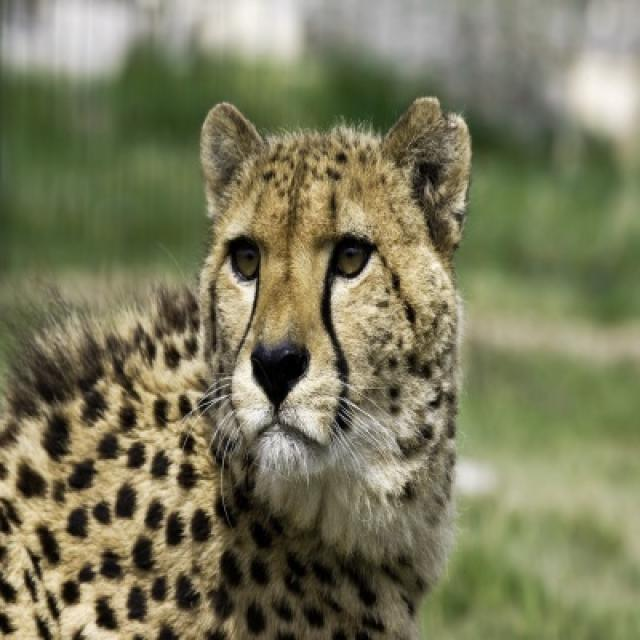Cheetah: (2, 97, 472, 638)
